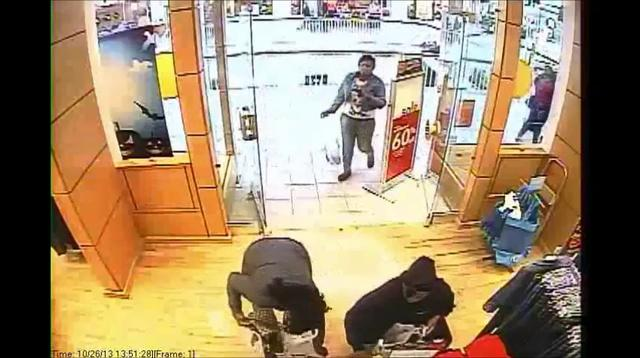Customer-Bagpack: (247, 309, 312, 355), (384, 318, 435, 358)
Product-Picked: (225, 142, 339, 358), (349, 145, 456, 358)
Regular: (332, 38, 391, 152)
